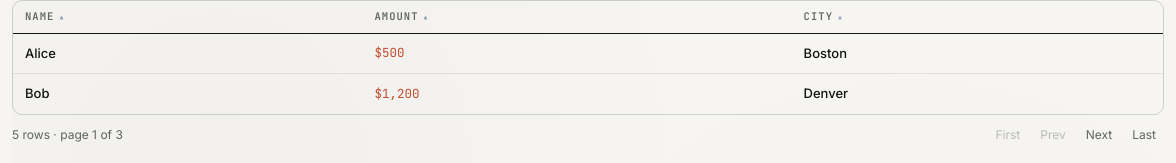
Scenario: TableExplorer › First and Last buttons work
// Go to last page
Step 1. Click the button "Last" → (1144, 135), box [1124,123,1164,147]
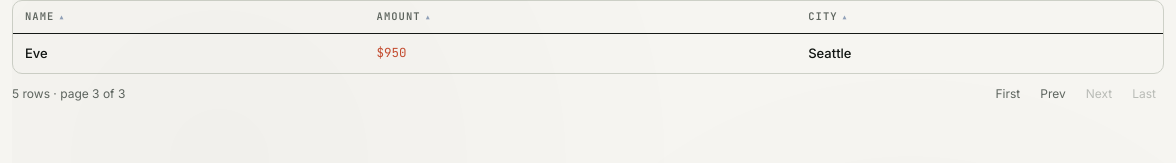
Result: the text "Eve" is shown at [25,45,48,61]
Result: the text "5 rows · page 3 of 3" is shown at [12,86,125,102]
// Go back to first page
Step 2. Click the button "First" → (1008, 94), box [987,82,1028,106]
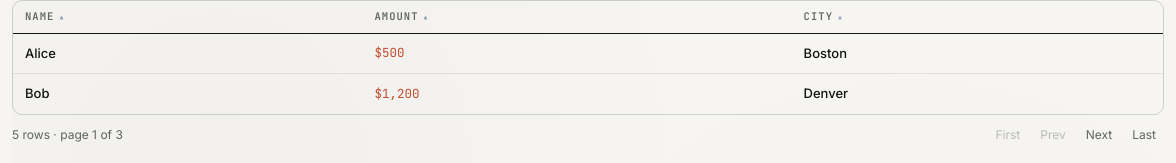
Result: the text "Alice" is shown at [25,45,56,61]
Result: the text "5 rows · page 1 of 3" is shown at [12,127,123,143]
